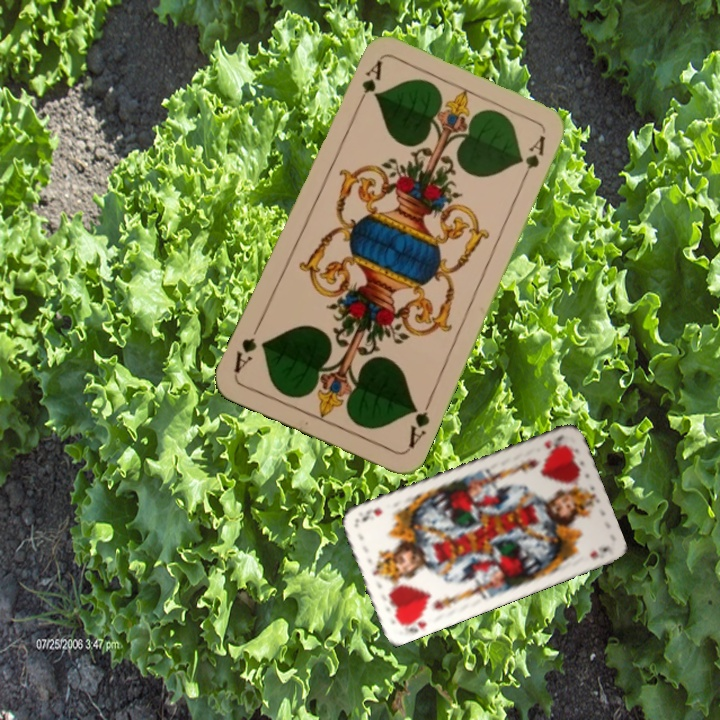GA: (352, 56, 385, 112), (404, 395, 434, 452)
HK: (395, 611, 430, 635), (540, 430, 563, 452)
